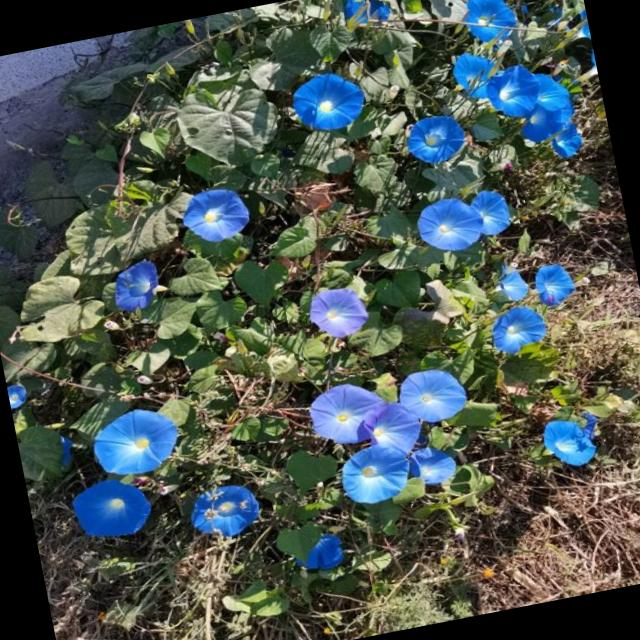ipomoea: (0, 0, 640, 626), (82, 400, 188, 486), (298, 374, 394, 454), (64, 471, 160, 548), (282, 64, 373, 141), (330, 437, 418, 512), (181, 477, 269, 548), (390, 360, 474, 433), (172, 180, 257, 252), (408, 190, 492, 262), (534, 408, 609, 476), (299, 280, 376, 346), (396, 108, 474, 173), (102, 254, 174, 320), (480, 299, 555, 362)
